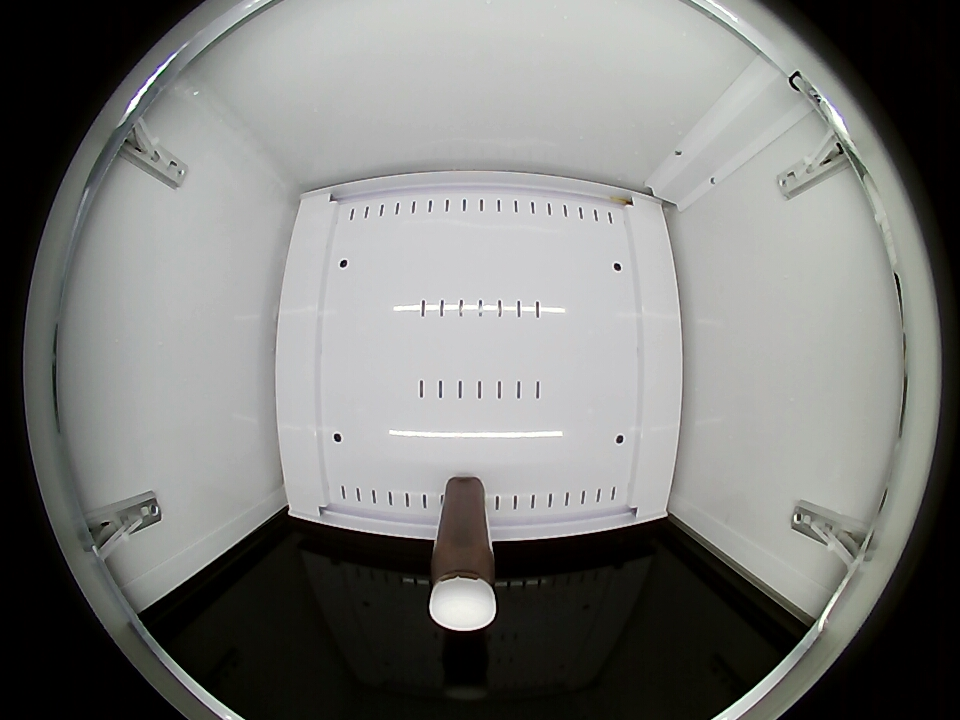youyanggudong: (428, 539, 499, 631)
